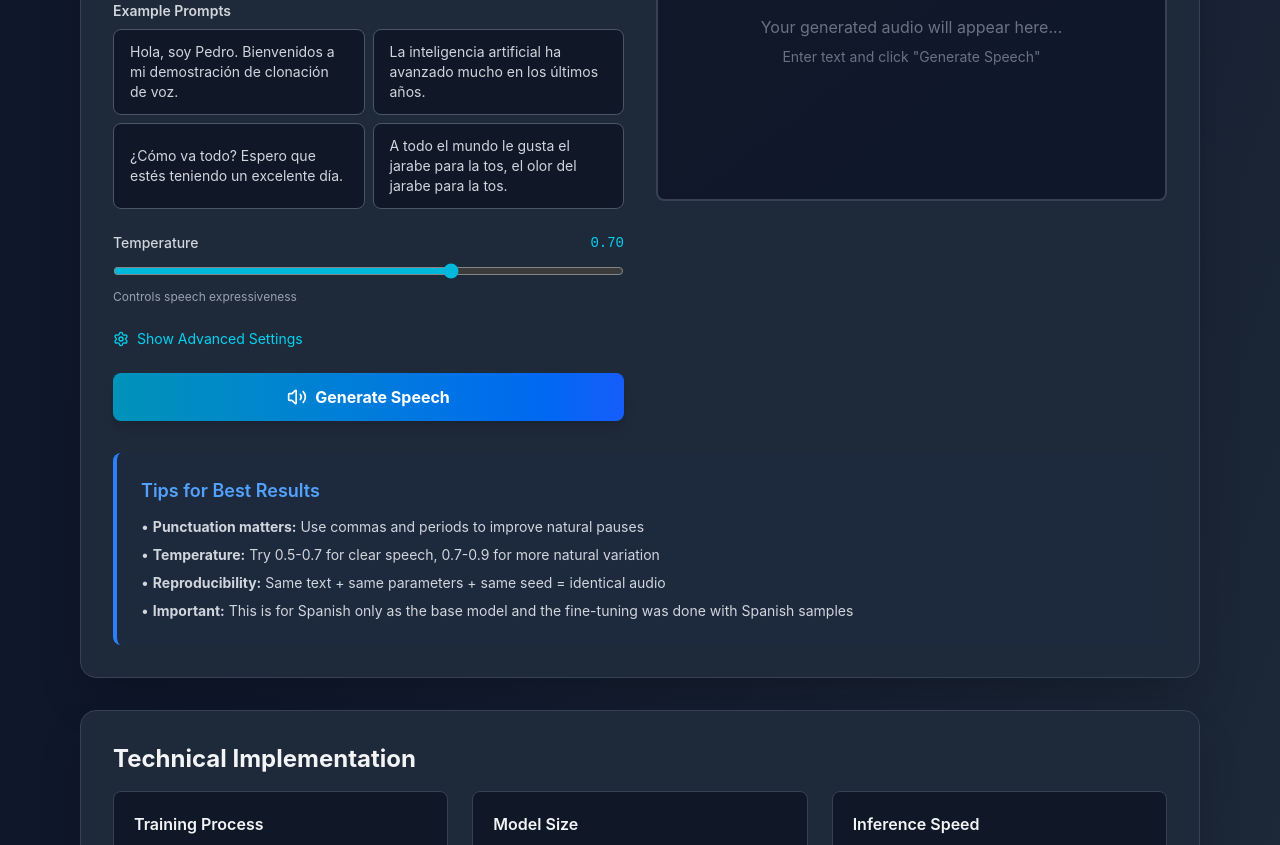
it: App › shows an error when the model cannot be reached
The width and height of the screenshot is (1280, 845).
(page scrolled)
Click the button "Generate Speech".
click(368, 396)  # box [113, 372, 624, 420]
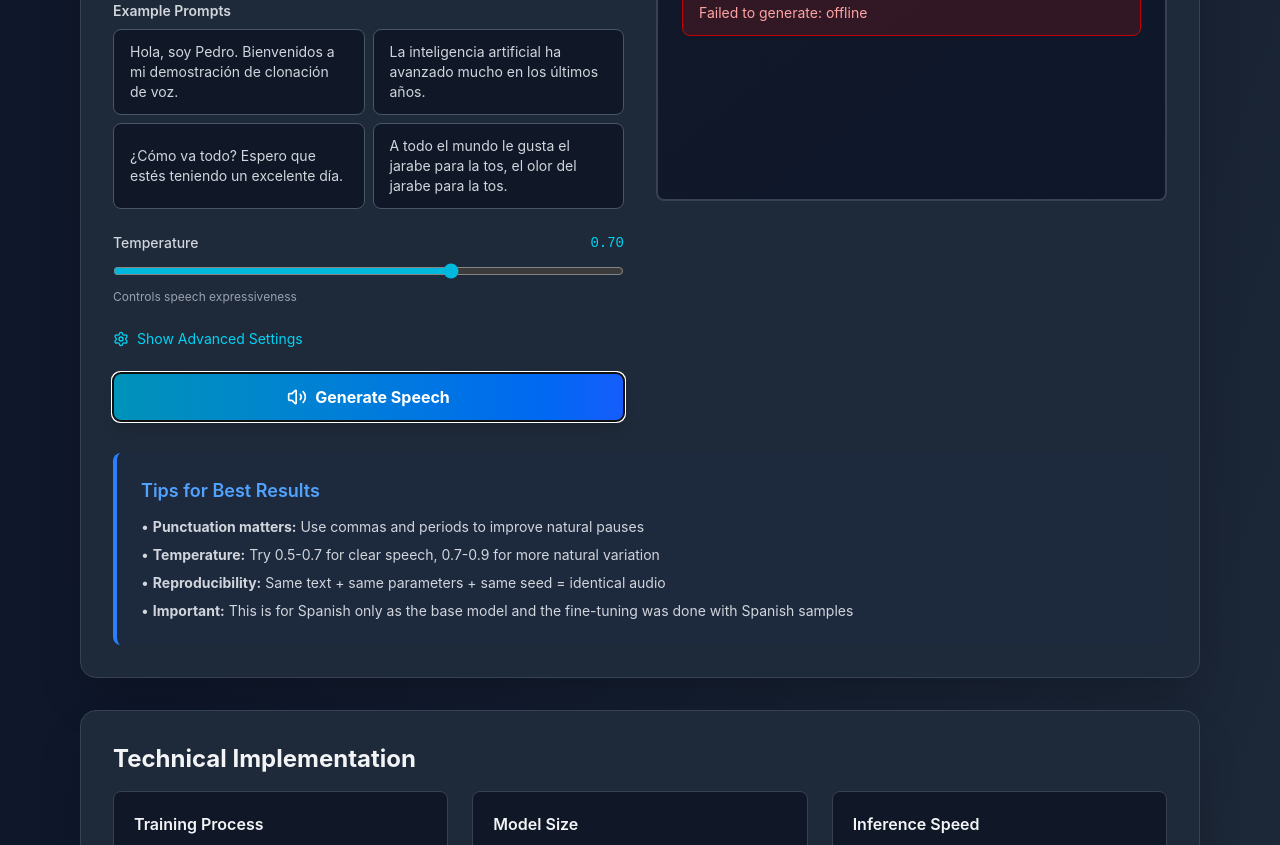
Expected: the text "Failed to generate: offline" is shown, [699, 4, 867, 20]
